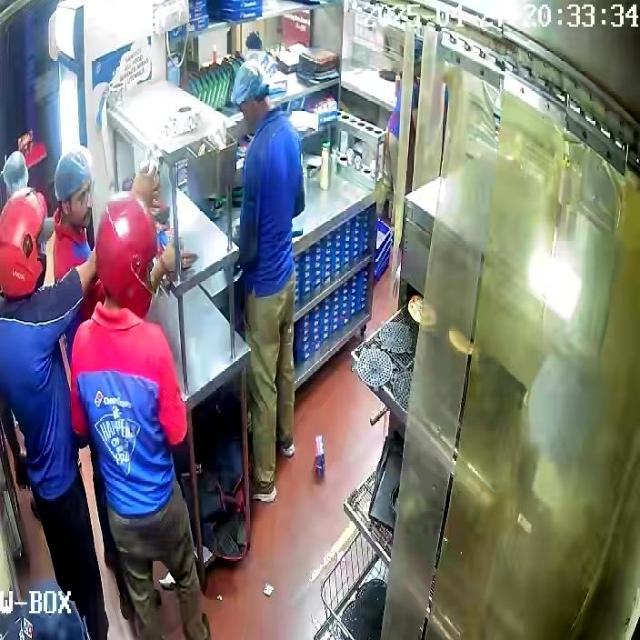helmet: (93, 191, 160, 318), (0, 190, 54, 300)
